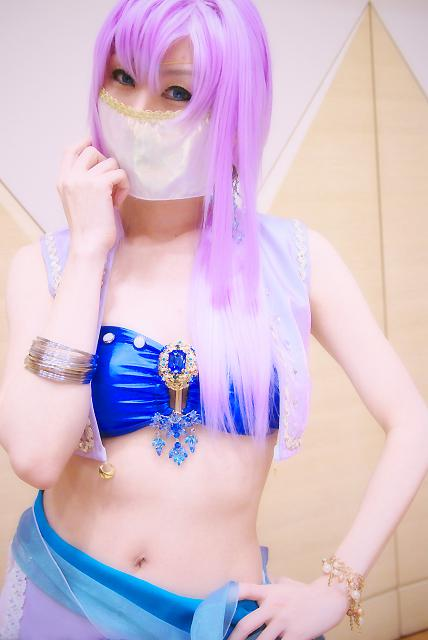OK: (87, 62, 224, 199)
